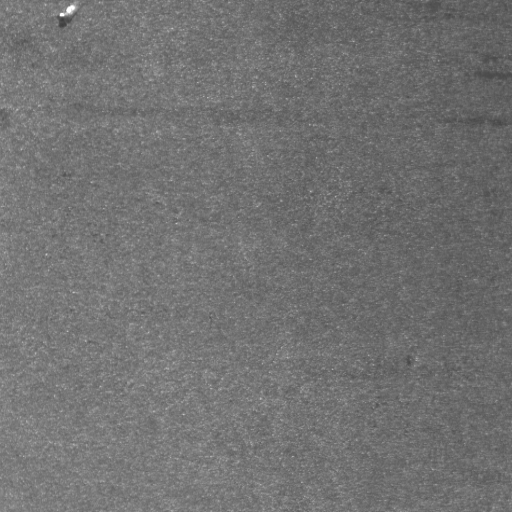aokeng: (57, 1, 88, 31)
